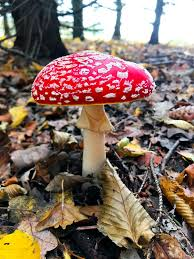Amanita muscaria: (26, 43, 163, 179)
